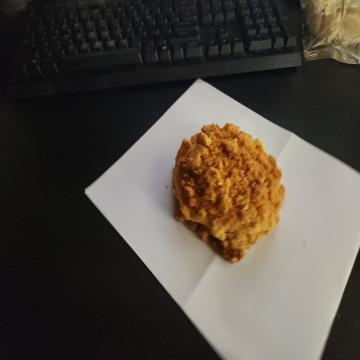soboru_bread: (173, 120, 285, 268)
